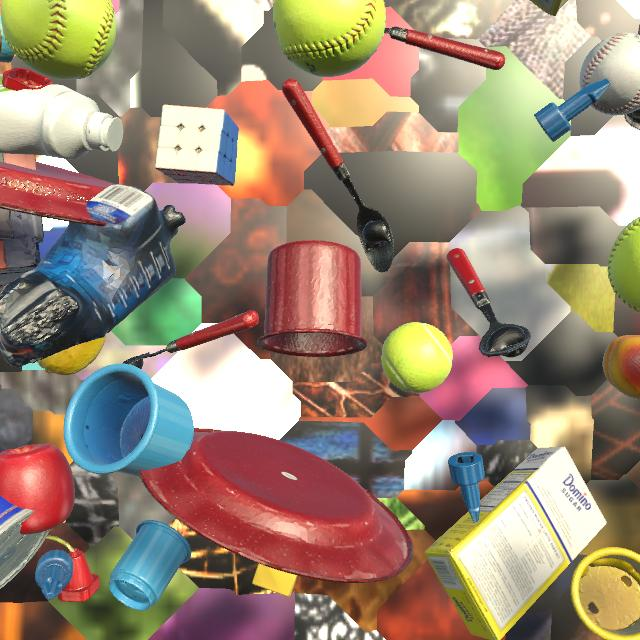ycb_002_master_chef_can: (0, 495, 50, 589)
ycb_004_sugar_box: (424, 446, 607, 640), (530, 0, 568, 16)
ycb_005_tomato_soup_can: (624, 24, 640, 130)
ycb_013_apple: (0, 444, 75, 535)
ycb_014_lemon: (37, 335, 106, 375)
ycb_015_peach: (603, 335, 640, 400)
